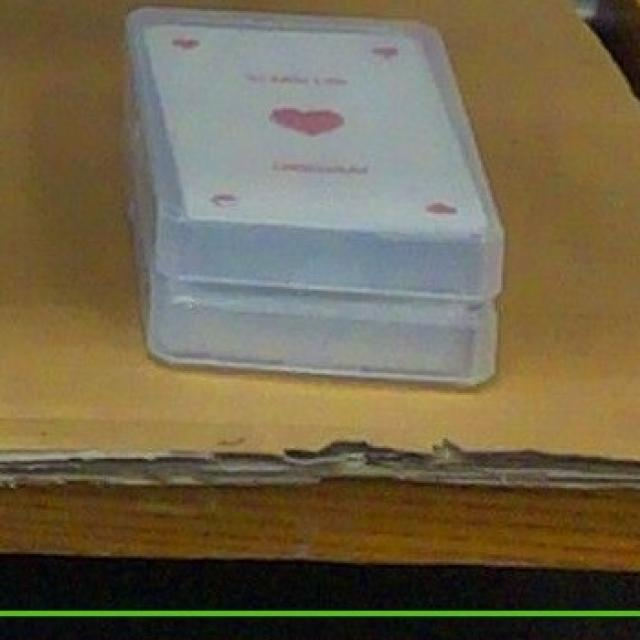Jasskarte: (125, 6, 505, 304), (123, 99, 500, 387)
